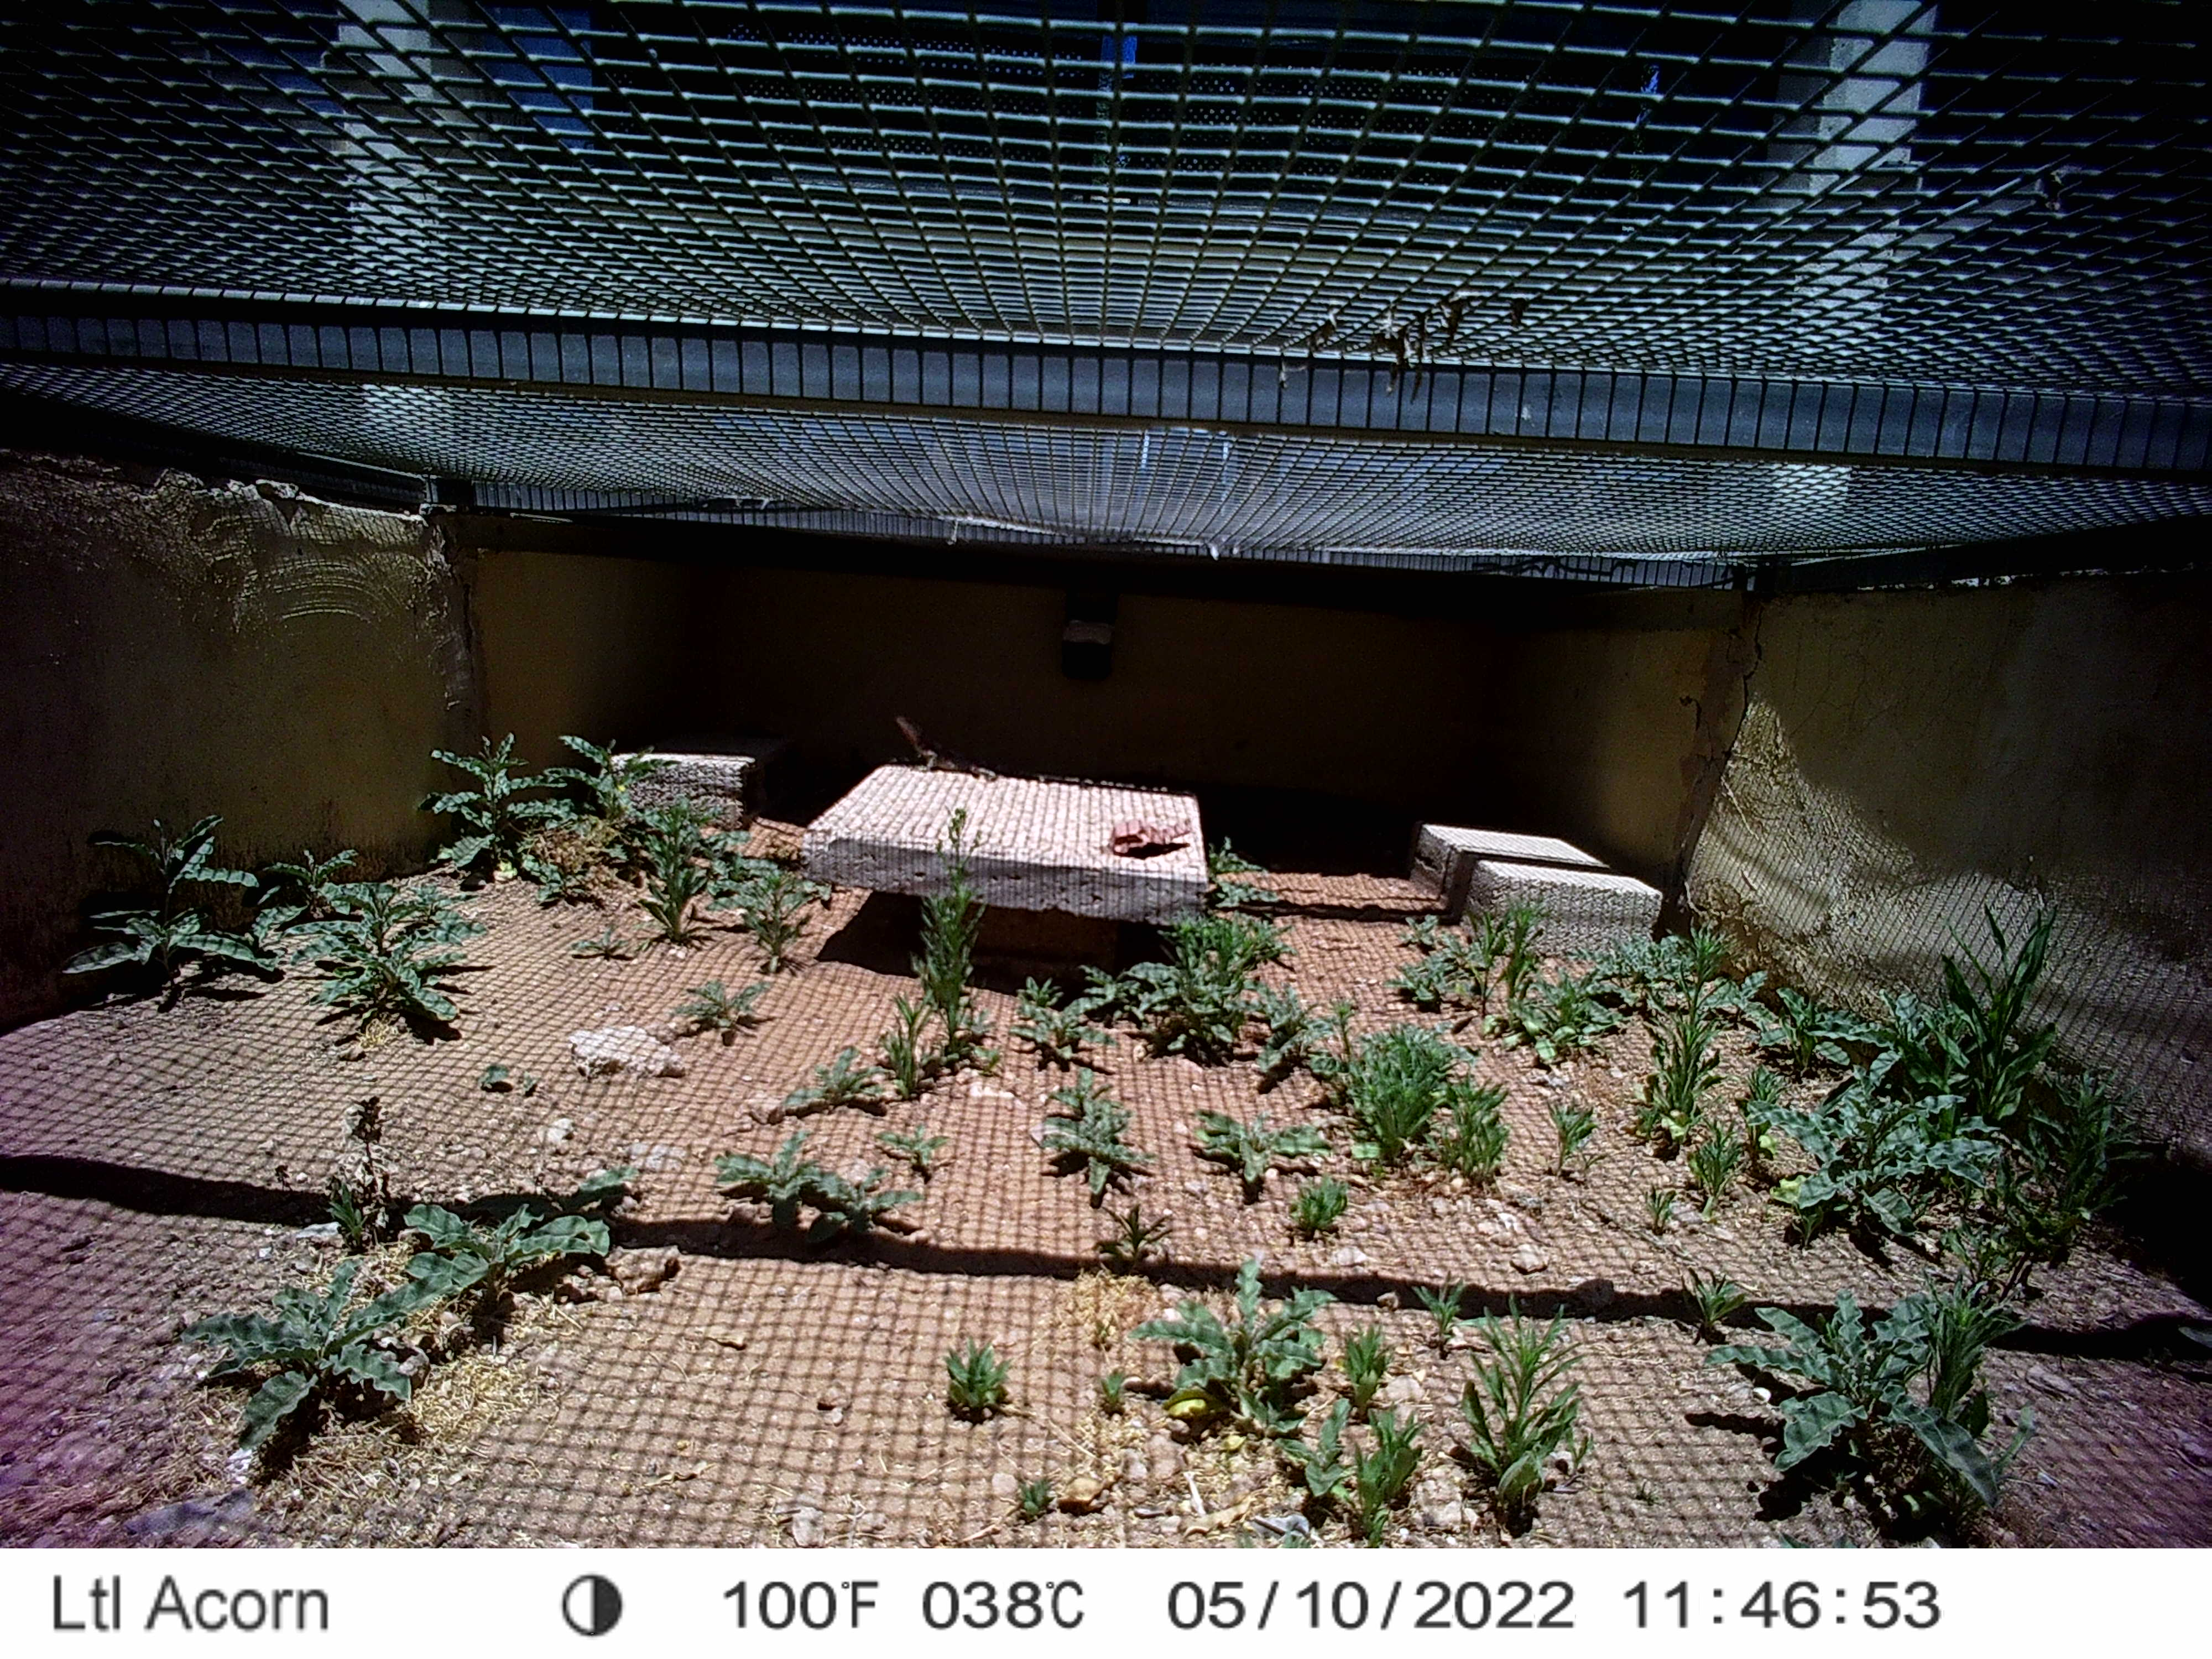lizard: (890, 708, 1035, 789)
